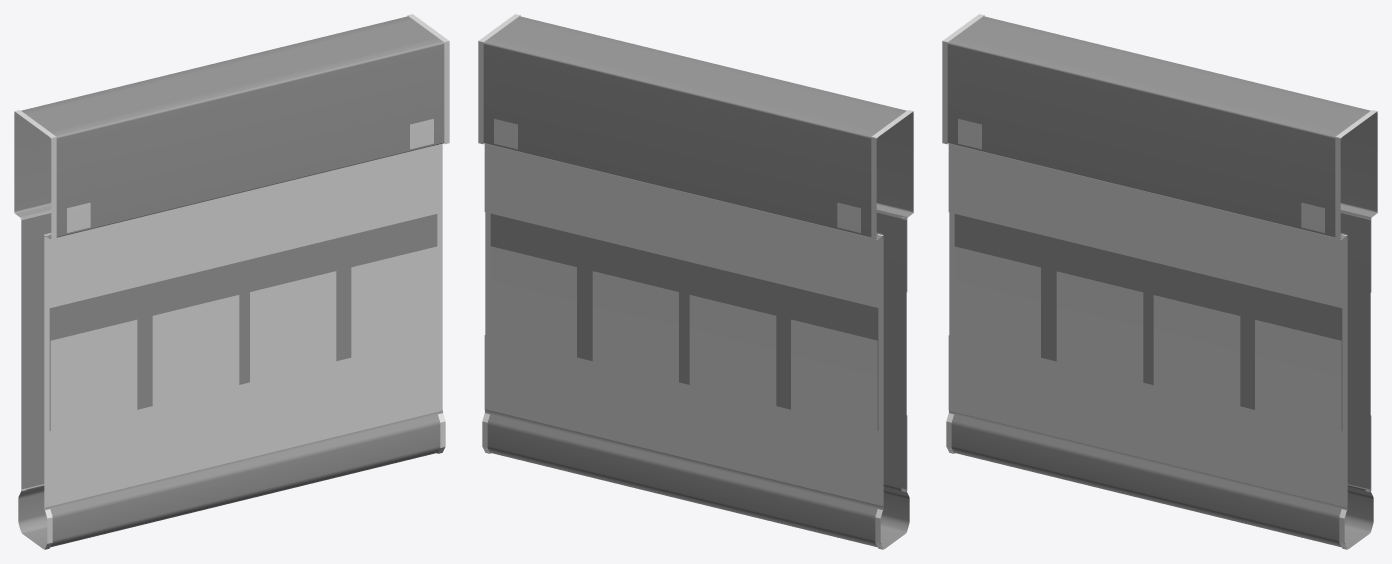
File: FillerPieceSlim.fbx
3 renders of one model, left to right at view 1: azimuth 30°, elevation 25°; view 2: azimuth 150°, elevation 25°; view 3: azimuth 330°, elevation 25°, orthographic.
Parts seen in each view (by area): view 1: Cube.050, StylizedHardSurface_TrimDecals_004.006, StylizedHardSurface_TrimDecals_004.005, StylizedHardSurface_Decals_019.006, StylizedHardSurface_Decals_019.007, StylizedHardSurface_Decals_019.008, StylizedHardSurface_Decals_019.009, StylizedHardSurface_Panels_002.011, StylizedHardSurface_Decals_037.002_projected; view 2: Cube.050, StylizedHardSurface_TrimDecals_004.008, StylizedHardSurface_TrimDecals_004.007, StylizedHardSurface_Decals_019.012, StylizedHardSurface_Decals_019.013, StylizedHardSurface_Decals_019.010, StylizedHardSurface_Decals_019.011, StylizedHardSurface_Panels_002.011, StylizedHardSurface_Decals_037.002_projected; view 3: Cube.050, StylizedHardSurface_TrimDecals_004.006, StylizedHardSurface_TrimDecals_004.005, StylizedHardSurface_Decals_019.007, StylizedHardSurface_Decals_019.008, StylizedHardSurface_Decals_019.009, StylizedHardSurface_Decals_019.006, StylizedHardSurface_Panels_002.011, StylizedHardSurface_Decals_037.002_projected.
Boxes of the visible parts, left/top/right/bottom form: Cube.050: left=14, top=16, right=444, bottom=548; StylizedHardSurface_TrimDecals_004.006: left=44, top=335, right=442, bottom=507; StylizedHardSurface_TrimDecals_004.005: left=44, top=143, right=442, bottom=309; StylizedHardSurface_Decals_019.006: left=50, top=319, right=137, bottom=431; StylizedHardSurface_Decals_019.007: left=152, top=295, right=239, bottom=406; StylizedHardSurface_Decals_019.008: left=250, top=271, right=336, bottom=382; StylizedHardSurface_Decals_019.009: left=351, top=246, right=437, bottom=357; StylizedHardSurface_Panels_002.011: left=14, top=14, right=449, bottom=549; StylizedHardSurface_Decals_037.002_projected: left=67, top=119, right=433, bottom=232; Cube.050: left=483, top=16, right=913, bottom=548; StylizedHardSurface_TrimDecals_004.008: left=484, top=335, right=882, bottom=506; StylizedHardSurface_TrimDecals_004.007: left=484, top=143, right=882, bottom=308; StylizedHardSurface_Decals_019.012: left=689, top=295, right=776, bottom=406; StylizedHardSurface_Decals_019.013: left=791, top=319, right=877, bottom=430; StylizedHardSurface_Decals_019.010: left=490, top=246, right=576, bottom=357; StylizedHardSurface_Decals_019.011: left=592, top=271, right=678, bottom=382; StylizedHardSurface_Panels_002.011: left=478, top=14, right=913, bottom=549; StylizedHardSurface_Decals_037.002_projected: left=494, top=119, right=860, bottom=232; Cube.050: left=947, top=16, right=1377, bottom=548; StylizedHardSurface_TrimDecals_004.006: left=948, top=335, right=1346, bottom=507; StylizedHardSurface_TrimDecals_004.005: left=948, top=143, right=1346, bottom=309; StylizedHardSurface_Decals_019.007: left=1056, top=271, right=1143, bottom=382; StylizedHardSurface_Decals_019.008: left=1153, top=295, right=1240, bottom=406; StylizedHardSurface_Decals_019.009: left=1255, top=319, right=1341, bottom=431; StylizedHardSurface_Decals_019.006: left=954, top=246, right=1040, bottom=357; StylizedHardSurface_Panels_002.011: left=942, top=14, right=1377, bottom=549; StylizedHardSurface_Decals_037.002_projected: left=958, top=119, right=1324, bottom=232.
Bounding box in the file's own units: 200 × 200 × 32.13.
